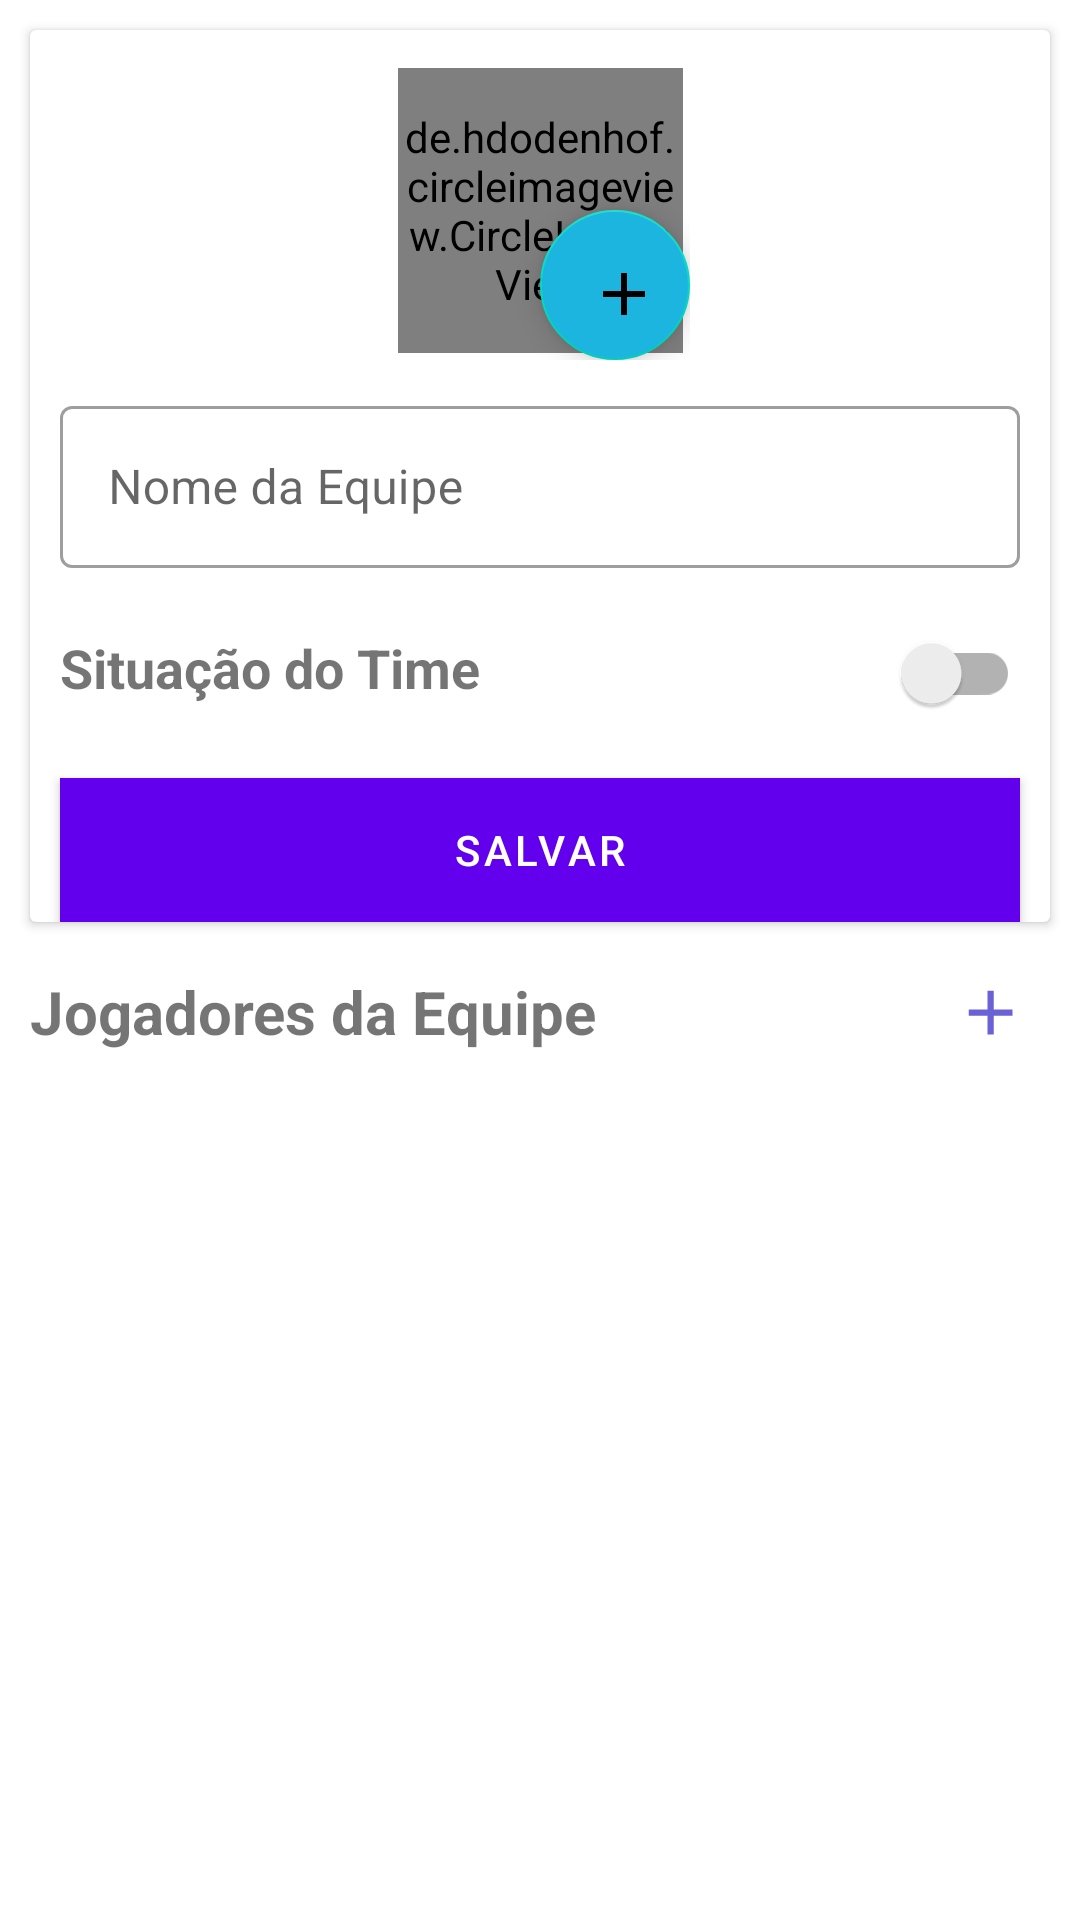

Point at icon controls on the screen. Image size 1080x1920, points as (x=x, y=y).
add: (x=615, y=285), (x=990, y=1012)
